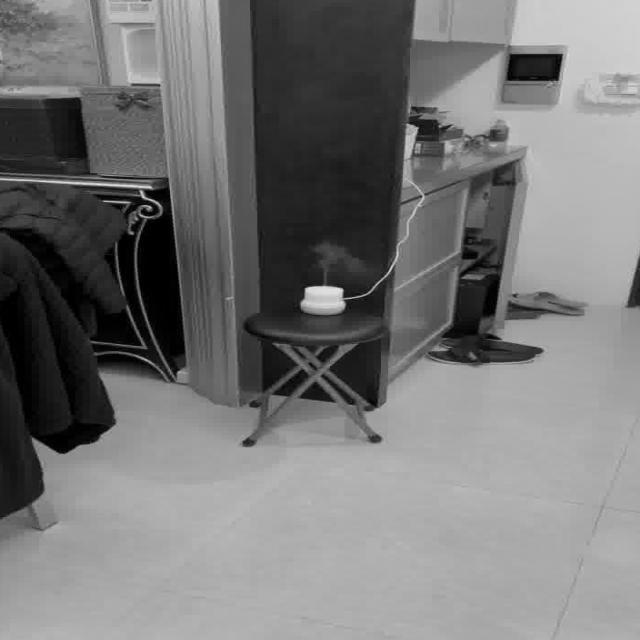fire: (306, 240, 364, 282)
